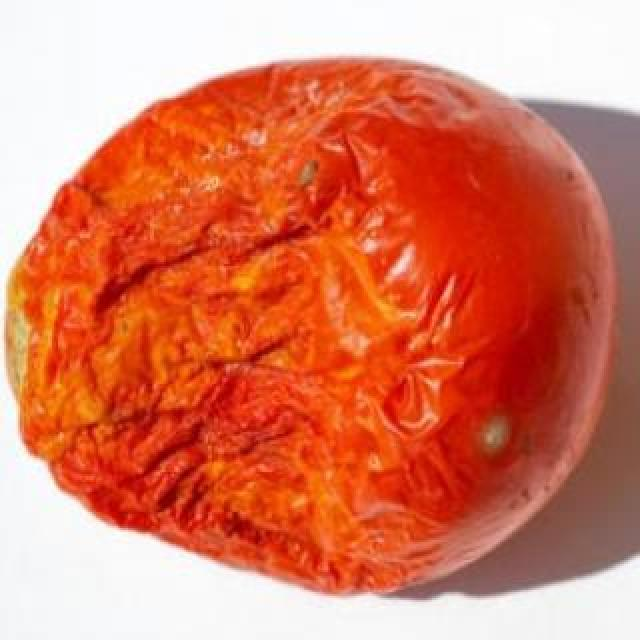Rotten_Tomato: (2, 40, 630, 606)
